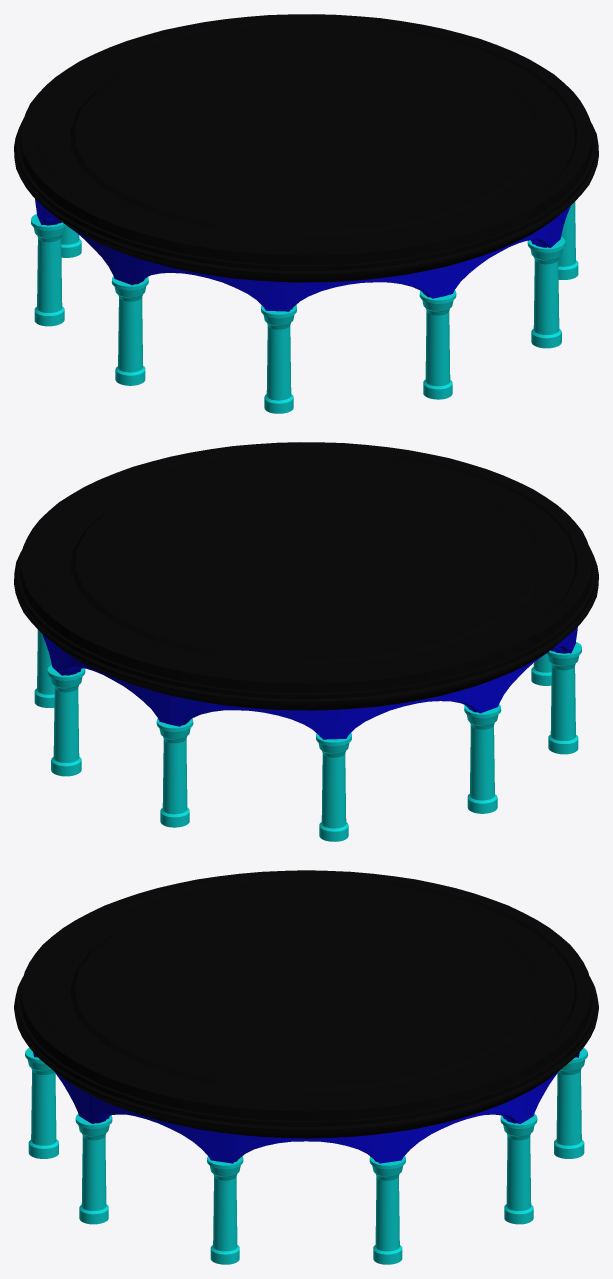
Rendered from platform.fbx.
The picture shows the model from 3 angles, top to bottom: view 1: azimuth 30°, elevation 25°; view 2: azimuth 150°, elevation 25°; view 3: azimuth 270°, elevation 25°; orthographic projection.
Parts seen in each view (by area): view 1: models/base/museum_interior/museum_platform_01.vmdl_c.museum; view 2: models/base/museum_interior/museum_platform_01.vmdl_c.museum; view 3: models/base/museum_interior/museum_platform_01.vmdl_c.museum.
Boxes of the visible parts, x1,y1,x2,y2 form: models/base/museum_interior/museum_platform_01.vmdl_c.museum: [14, 14, 598, 413]; models/base/museum_interior/museum_platform_01.vmdl_c.museum: [14, 442, 598, 841]; models/base/museum_interior/museum_platform_01.vmdl_c.museum: [14, 870, 598, 1264].
Size of the model in its own units: 1846 by 569 by 1846.
